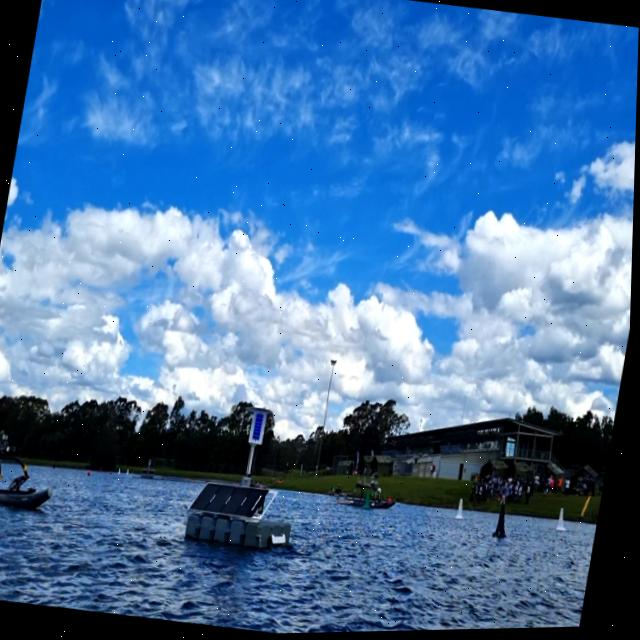led: (253, 412, 268, 444)
